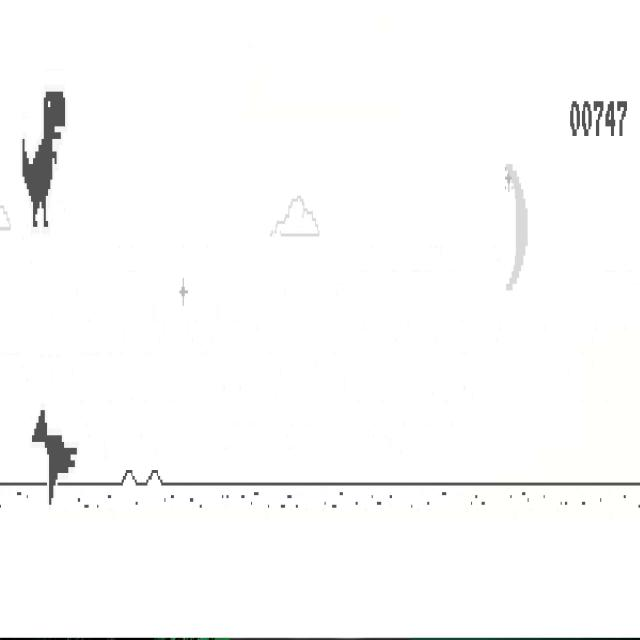dino: (22, 90, 66, 228)
ptero: (32, 409, 78, 506)
